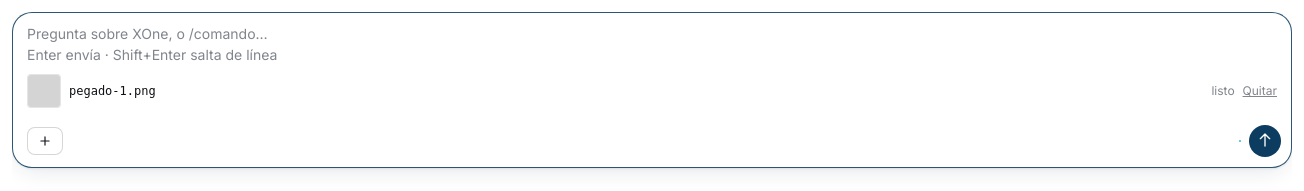
Test: adjuntar ficheros › una captura pegada lleva MINIATURA de sus bytes locales, que se suelta al quitarla (IXCODE-59)
What coordinates should you click on to do the following:
click the button with aria-label "Quitar pegado-1.png"
I would click on:
 (1260, 91)
Its box is [1243,82,1277,100].
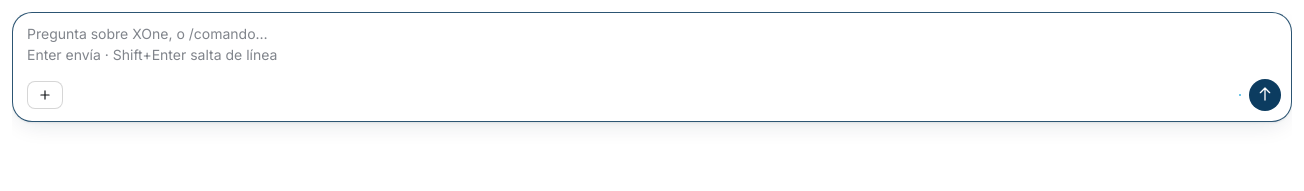
Now the picture is gone
